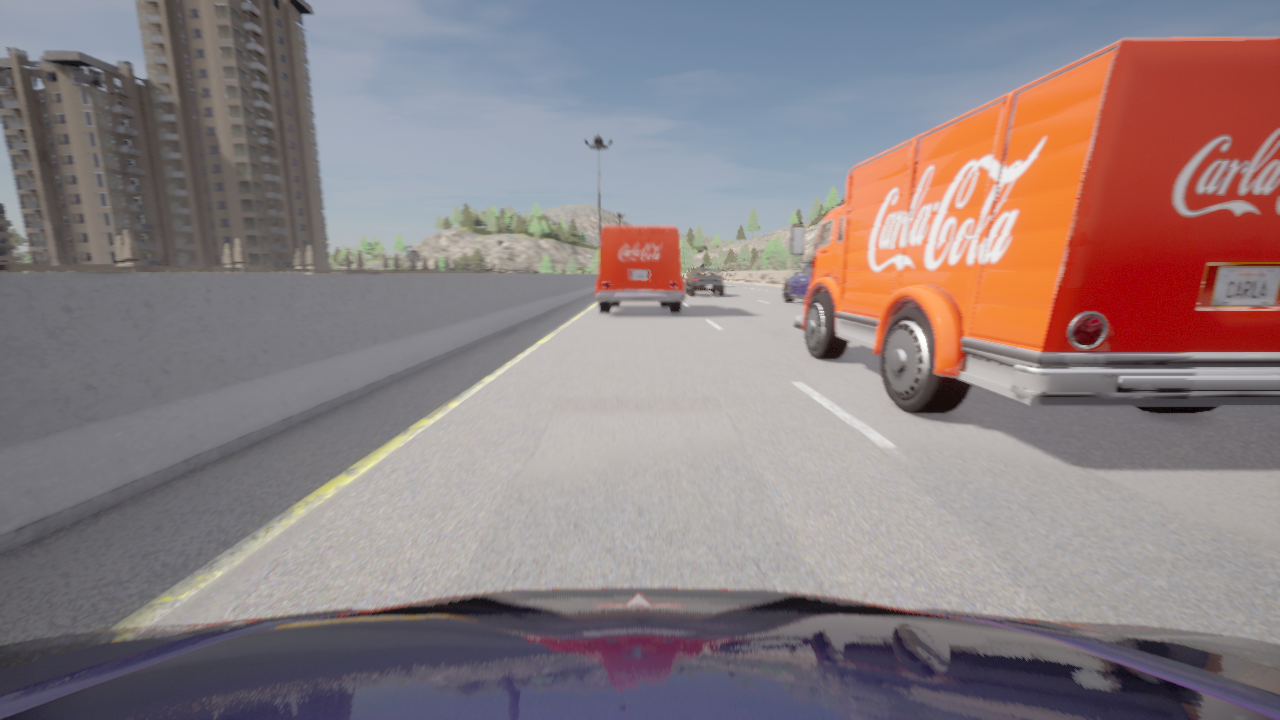cyclist: (790, 37, 1279, 414), (0, 588, 1279, 719), (596, 226, 685, 313), (783, 263, 811, 302), (685, 268, 723, 295)
